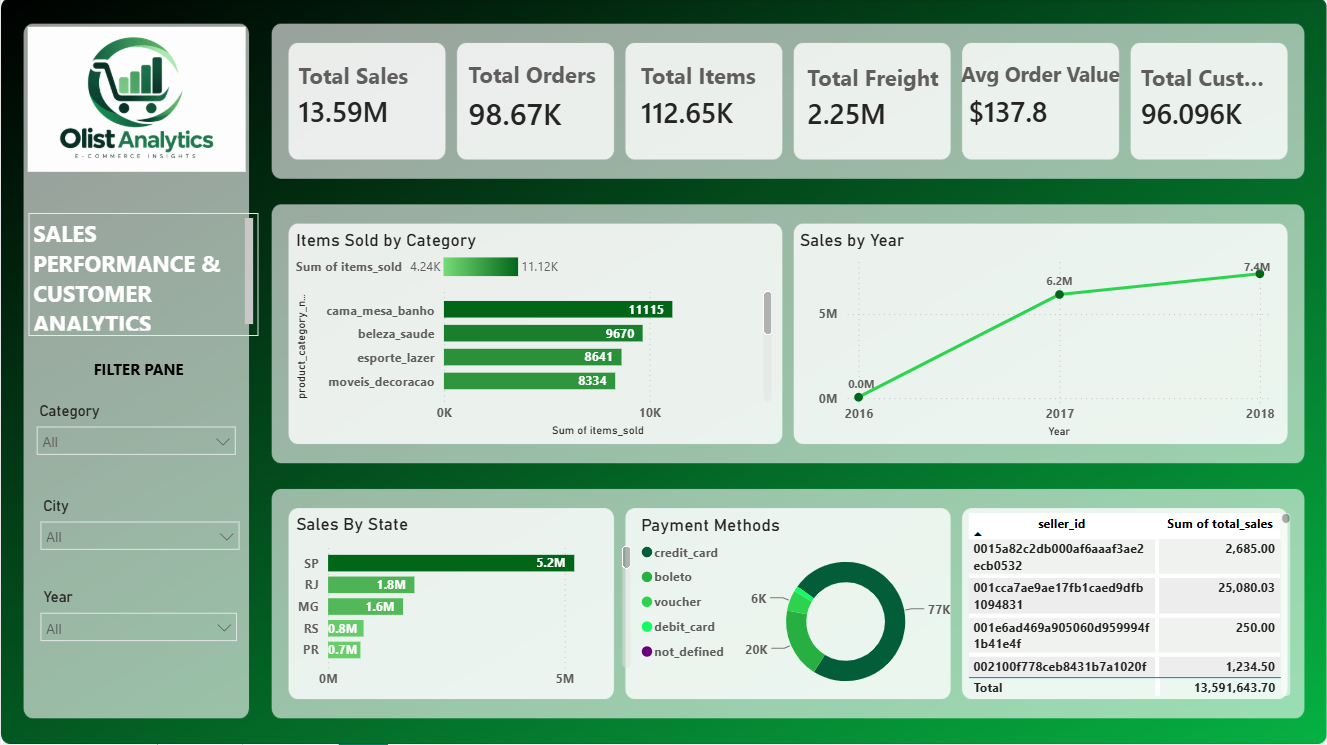

What the dashboard file says about the page in this screenshot:
{"tool":"powerbi","page":{"name":"Sales","canvas":[1280,720],"ordinal":0},"visuals":[{"type":"cardVisual","fields":{"Data":["Sum(vw_salessummary.total_price)"]},"box":[258.2,26.5,190.6,133.9],"z":0},{"type":"cardVisual","fields":{"Data":["Sum(vw_salessummary.total_items)"]},"box":[588.7,36.2,189,114.1],"z":1000},{"type":"clusteredBarChart","title":"Items Sold by Category","fields":{"Category":["vw_itemssoldbycategory.product_category_name"],"Y":["Sum(vw_itemssoldbycategory.items_sold)"]},"box":[279.9,223.2,469.3,205.1],"z":2000},{"type":"donutChart","title":"Payment Methods","fields":{"Category":["vw_paymentmethods.payment_type"],"Y":["Sum(vw_paymentmethods.payment_count)"]},"box":[612.9,498.3,314.9,188.2],"z":3000},{"type":"tableEx","fields":{"Values":["vw_salesbyseller.seller_id","Sum(vw_salesbyseller.total_sales)"]},"box":[927.8,492.2,322.1,187],"z":4000},{"type":"textbox","box":[26.5,207.5,222,118.2],"z":5000},{"type":"slicer","fields":{"Values":["vw_productssalesbycategory.product_category_name"]},"box":[24.1,384.9,212.5,87.5],"z":6000},{"type":"slicer","fields":{"Values":["vw_cityssales.customer_city"]},"box":[27.7,476.5,212.5,87.5],"z":7000},{"type":"slicer","fields":{"Values":["vw_monthlysales2.sales_month"]},"box":[27.7,564.6,210,86.2],"z":8000},{"type":"textbox","box":[26.5,342.6,212.5,33.8],"z":9000},{"type":"cardVisual","fields":{"Data":["Sum(vw_salessummary.total_orders)"]},"box":[422.3,27.7,190.6,133.9],"z":10000},{"type":"cardVisual","fields":{"Data":["Sum(vw_salessummary.avg_per_order)"]},"box":[904.8,54.3,196.6,106.2],"z":11000},{"type":"cardVisual","fields":{"Data":["Sum(vw_salessummary.total_freights)"]},"box":[749.2,37.4,189,114.1],"z":12000},{"type":"actionButton","box":[912.1,44.6,182.2,50.7],"z":13000},{"type":"cardVisual","fields":{"Data":["Sum(vw_totalcustomers.total_customers)"]},"box":[1071.3,37.4,189,114.1],"z":14000},{"type":"lineChart","title":"Sales by Year","fields":{"Category":["vw_monthlysales2.sales_month.Variation.Date Hierarchy.Year"],"Y":["Sum(vw_monthlysales.total_sales)"]},"box":[766.1,223.2,468.1,206.3],"z":15000},{"type":"clusteredBarChart","title":"Sales By State","fields":{"Category":["vw_salesbystate.customer_state"],"Y":["Sum(vw_salesbystate.total_sales)"]},"box":[279.9,497.1,333,178.6],"z":16000},{"type":"image","box":[24.1,27.7,213.5,139.9],"z":17000}]}

Visuals, with their boxes in screenshot pixels (x1, y1, x2, y2), scaled from the page's 1280x720 canvas onto the 1327x745 screenshot:
cardVisual - Sum(vw_salessummary.total_price): (268, 27, 465, 166)
cardVisual - Sum(vw_salessummary.total_items): (610, 37, 806, 156)
"Items Sold by Category" clusteredBarChart: (290, 231, 777, 443)
"Payment Methods" donutChart: (635, 516, 962, 710)
tableEx - vw_salesbyseller.seller_id x Sum(vw_salesbyseller.total_sales): (962, 509, 1296, 703)
textbox: (27, 215, 258, 337)
slicer - vw_productssalesbycategory.product_category_name: (25, 398, 245, 489)
slicer - vw_cityssales.customer_city: (29, 493, 249, 584)
slicer - vw_monthlysales2.sales_month: (29, 584, 246, 673)
textbox: (27, 354, 248, 389)
cardVisual - Sum(vw_salessummary.total_orders): (438, 29, 635, 167)
cardVisual - Sum(vw_salessummary.avg_per_order): (938, 56, 1142, 166)
cardVisual - Sum(vw_salessummary.total_freights): (777, 39, 973, 157)
actionButton: (946, 46, 1134, 99)
cardVisual - Sum(vw_totalcustomers.total_customers): (1111, 39, 1307, 157)
"Sales by Year" lineChart: (794, 231, 1280, 444)
"Sales By State" clusteredBarChart: (290, 514, 635, 699)
image: (25, 29, 246, 173)
